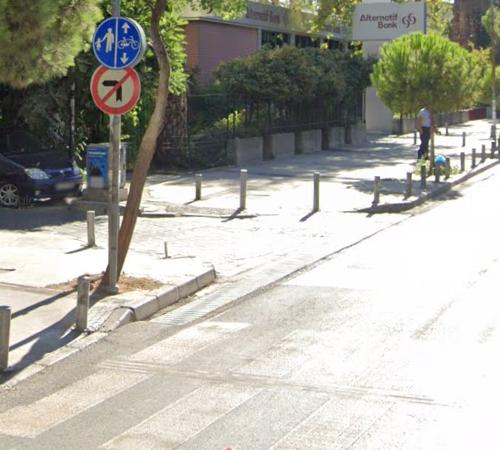leftturnsareforbidden: (88, 60, 140, 111)
